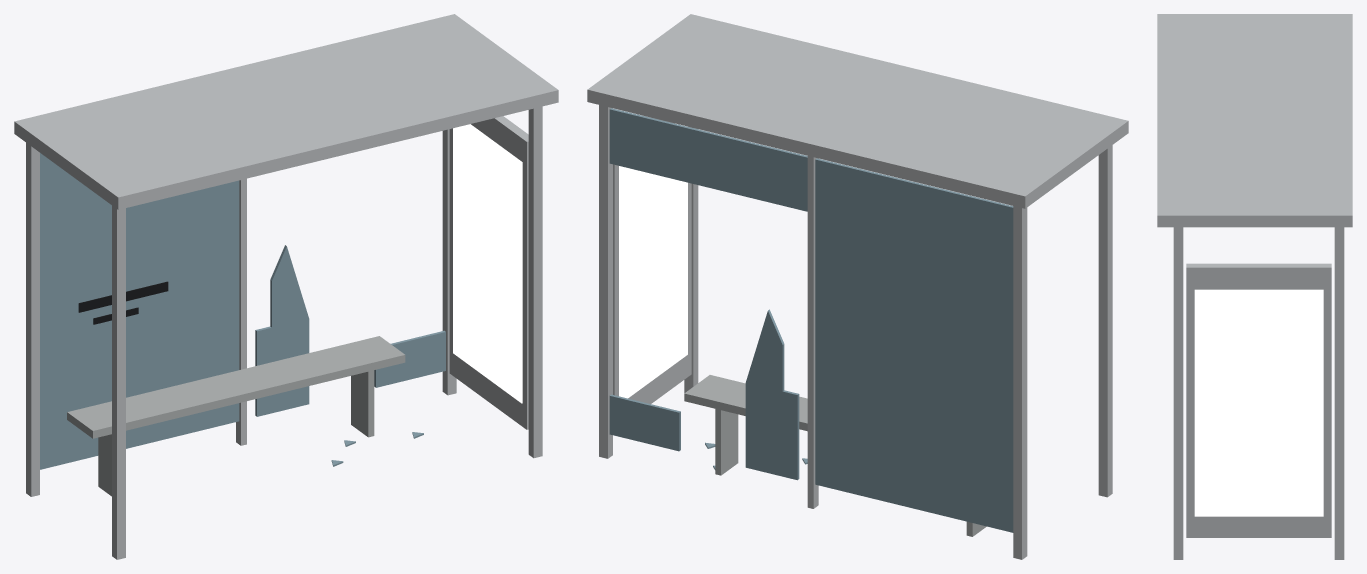
Rendered from bus_shelter.glb.
3 views of the same model, side by side, from view 1: azimuth 30°, elevation 25°; view 2: azimuth 150°, elevation 25°; view 3: azimuth 270°, elevation 25° (orthographic). The views are drawn at different scales.
Parts seen in each view (by area): view 1: bus_shelter; view 2: bus_shelter; view 3: bus_shelter.
Boxes of the visible parts, x1,y1,x2,y2 form: bus_shelter: (14,14,558,559); bus_shelter: (587,14,1128,559); bus_shelter: (1157,14,1352,559).
Bounding box in the file's own units: 2.96 × 2.38 × 1.21.
Materials: 1 (1 with a texture image).
